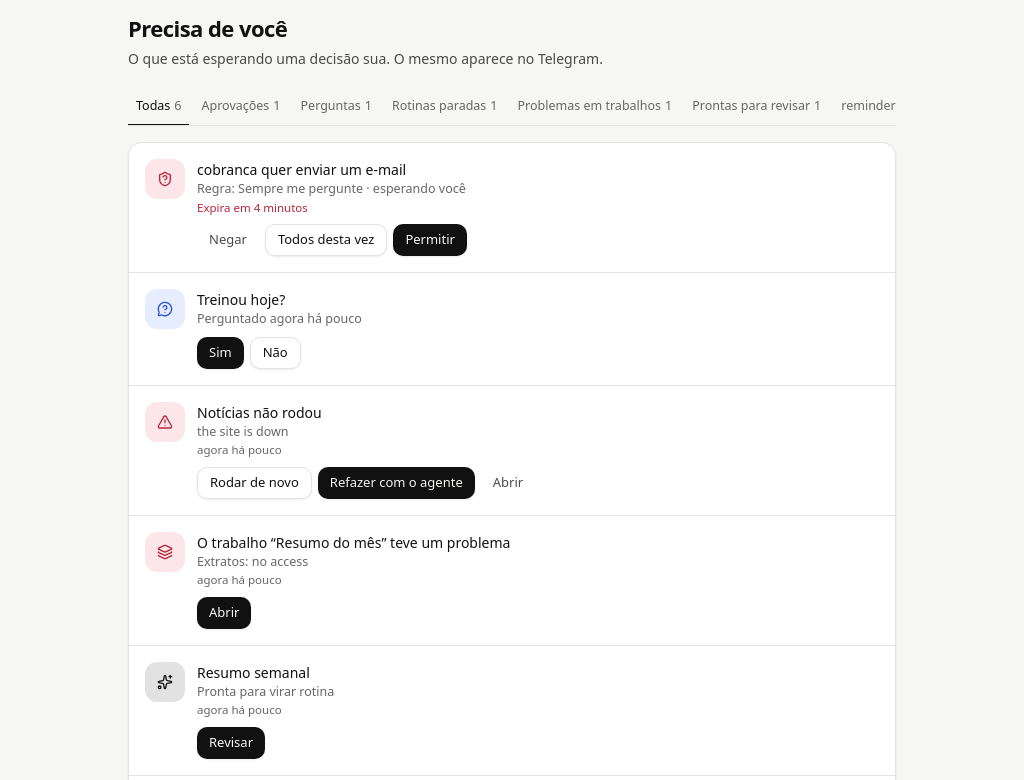
Test: One list of what needs you › shows every kind in the order the server gives, with filters
The image size is (1024, 780).
Check: the text "Expira em 4 minutos" is shown, box [197,200,308,214]
Check: the text "Extratos: no access" is shown, box [197,552,308,570]
Click the tab "Perguntas1" at (336, 107), box [292,89,380,126]
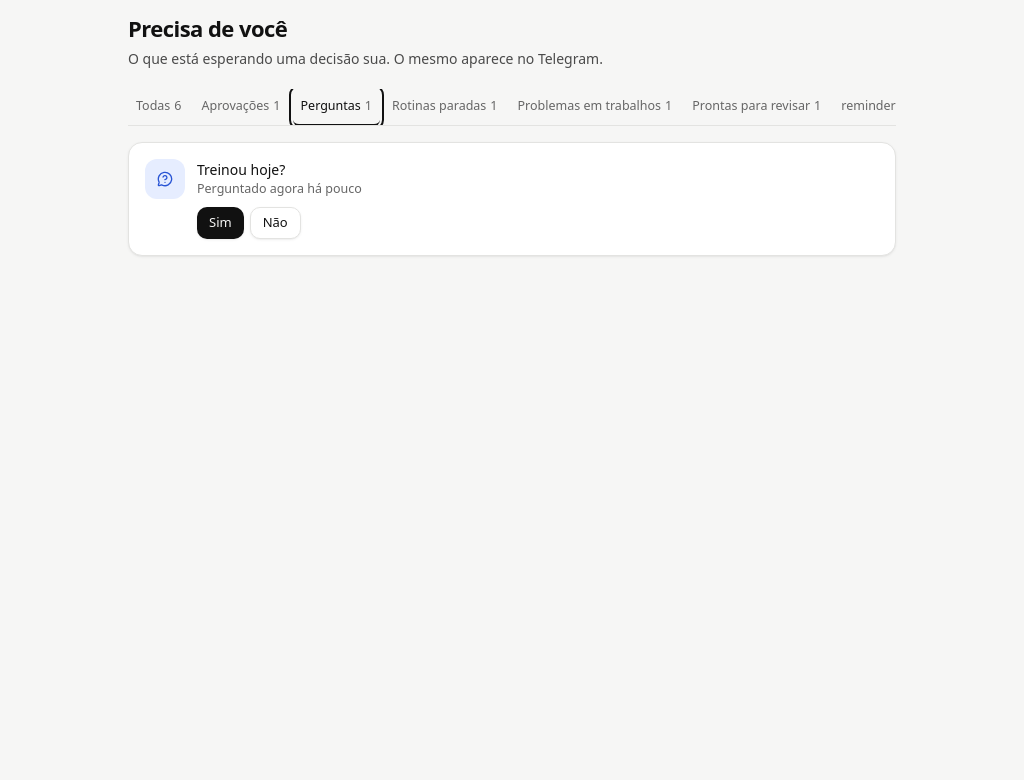
Check: the text "Treinou hoje?" is shown, box [197,160,285,179]
Check: the number of list items is 1, box [145,159,362,239]
Check: the text "Notícias não rodou" is gone
Click the tab "Rotinas paradas1" at (445, 107), box [384,89,506,126]
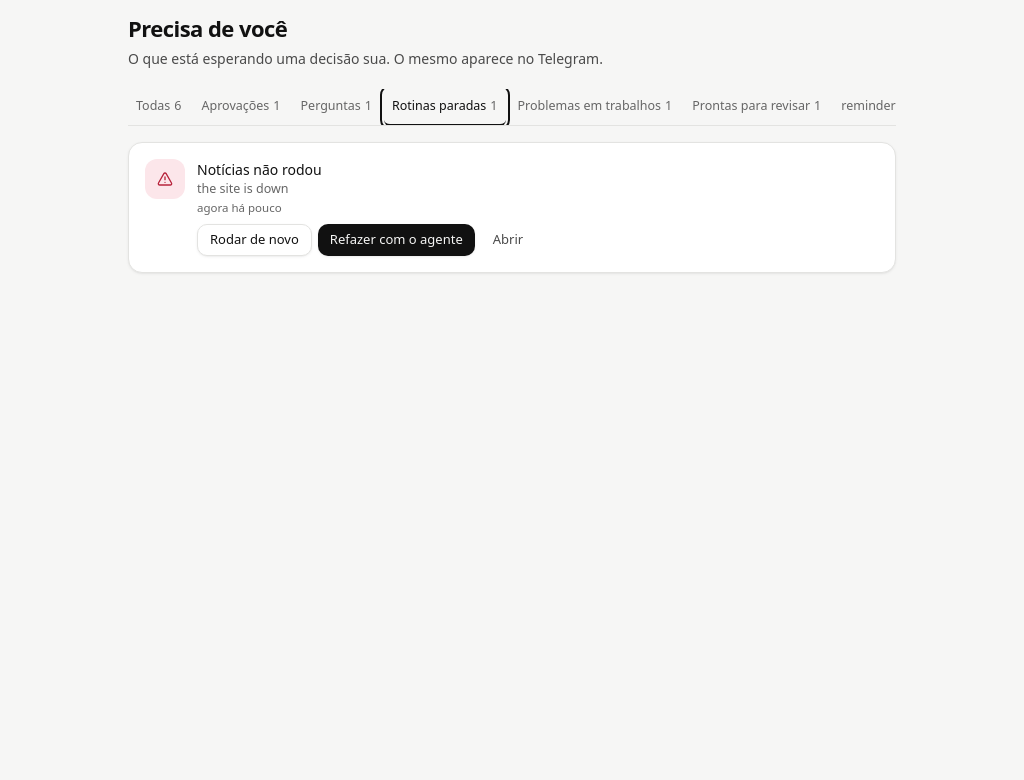
Check: the text "Notícias não rodou" is shown, box [197,160,322,179]
Check: the text "Treinou hoje?" is gone
